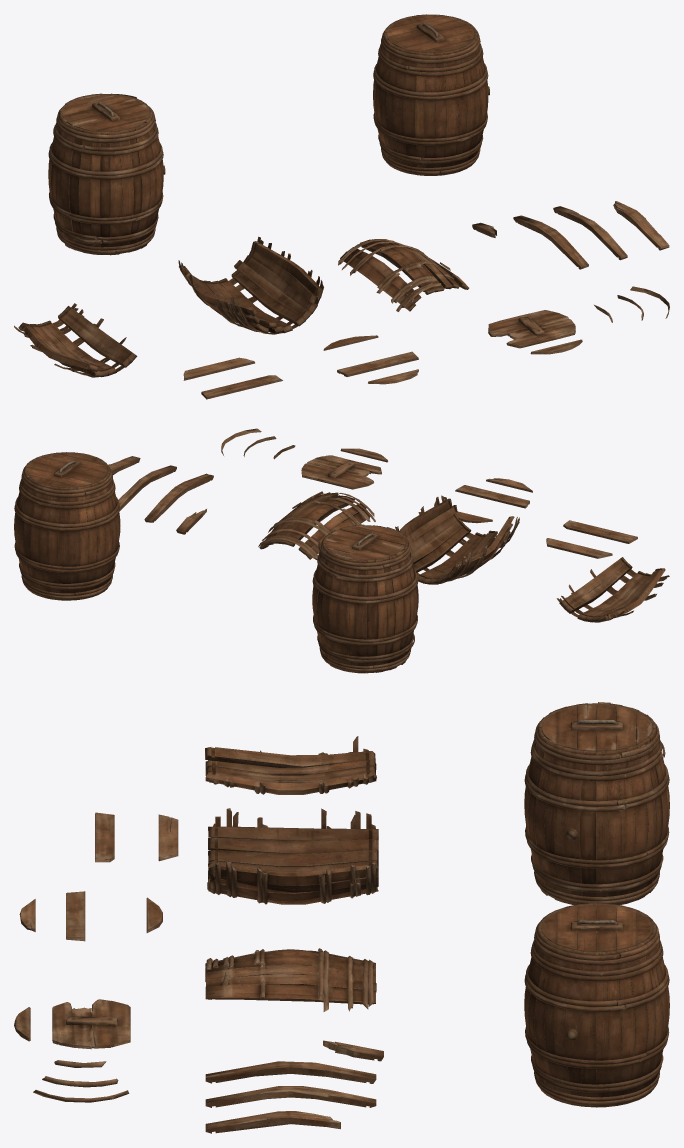
Rendered from wooden_barrels_01.glb.
3 views of the same model, one above another, from view 1: azimuth 30°, elevation 25°; view 2: azimuth 150°, elevation 25°; view 3: azimuth 270°, elevation 25° (orthographic). The views are drawn at different scales.
Visible parts, largest first — view 1: wooden_barrels_01_piece01, wooden_barrels_01_barrel01, wooden_barrels_01_barrel02; view 2: wooden_barrels_01_piece01, wooden_barrels_01_barrel02, wooden_barrels_01_barrel01; view 3: wooden_barrels_01_piece01, wooden_barrels_01_barrel01, wooden_barrels_01_barrel02.
Part boxes in pixels (<box>): wooden_barrels_01_piece01: <box>14,201,669,399</box>; wooden_barrels_01_barrel01: <box>373,14,489,175</box>; wooden_barrels_01_barrel02: <box>48,93,165,255</box>; wooden_barrels_01_piece01: <box>108,428,669,622</box>; wooden_barrels_01_barrel02: <box>312,524,418,673</box>; wooden_barrels_01_barrel01: <box>14,452,120,600</box>; wooden_barrels_01_piece01: <box>14,736,383,1133</box>; wooden_barrels_01_barrel01: <box>524,903,669,1107</box>; wooden_barrels_01_barrel02: <box>524,702,669,904</box>.
Bounding box in the file's own units: 4.44 × 0.9554 × 3.34.
Materials: 3 (3 with a texture image).
